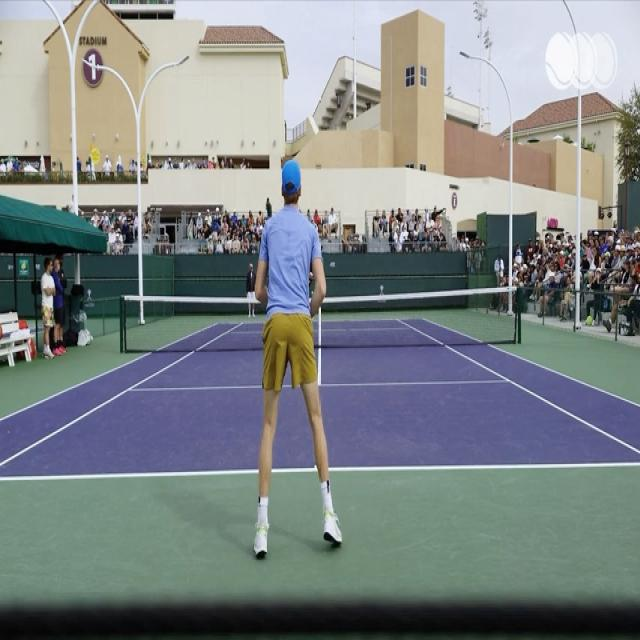ready-position: (246, 156, 350, 553)
